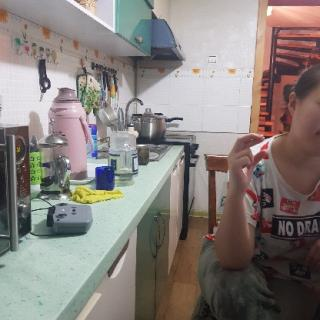DHELL: (222, 128, 272, 196)
